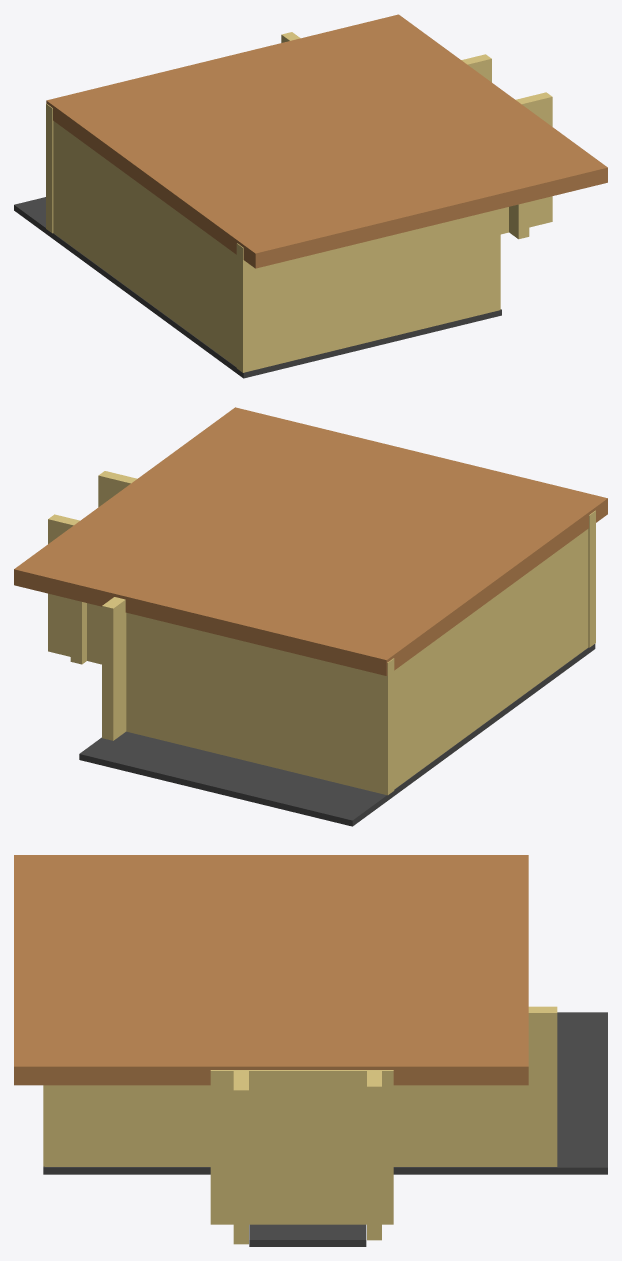
Rendered from quarto.glb.
3 views of the same model, one above another, from view 1: azimuth 30°, elevation 25°; view 2: azimuth 150°, elevation 25°; view 3: azimuth 270°, elevation 25° (orthographic). The views are drawn at different scales.
Parts seen in each view (by area): view 1: Cube.002, Cube.262, Cube.259, Cube.004, Cube.008, Cube.260, Cube.009; view 2: Cube.002, Cube.260, Cube.259, Cube.004, Cube.006, Cube.007, Cube.009, Cube.262, Cube.008; view 3: Cube.002, Cube.009, Cube.006, Cube.004, Cube.005, Cube.008, Cube.007.
Part boxes in pixels (box(x1,y1,x2,y2)): Cube.002: box(46, 14, 607, 268); Cube.262: box(236, 209, 500, 372); Cube.259: box(53, 121, 254, 372); Cube.004: box(14, 197, 501, 378); Cube.008: box(500, 92, 552, 234); Cube.260: box(46, 103, 53, 233); Cube.009: box(509, 202, 529, 239); Cube.002: box(14, 407, 607, 675); Cube.260: box(126, 612, 394, 795); Cube.259: box(394, 529, 588, 789); Cube.004: box(79, 644, 595, 826); Cube.006: box(102, 597, 126, 740); Cube.007: box(48, 514, 101, 664); Cube.009: box(70, 599, 86, 664); Cube.262: box(588, 510, 595, 647); Cube.008: box(98, 471, 137, 507); Cube.002: box(14, 855, 528, 1085); Cube.009: box(210, 1070, 393, 1224); Cube.006: box(393, 1006, 557, 1166); Cube.004: box(43, 1012, 607, 1246); Cube.005: box(45, 1085, 210, 1166); Cube.008: box(233, 1071, 248, 1244); Cube.007: box(367, 1070, 381, 1240).
Size of the model in its own units: 16.34 by 5.4 by 17.67.
